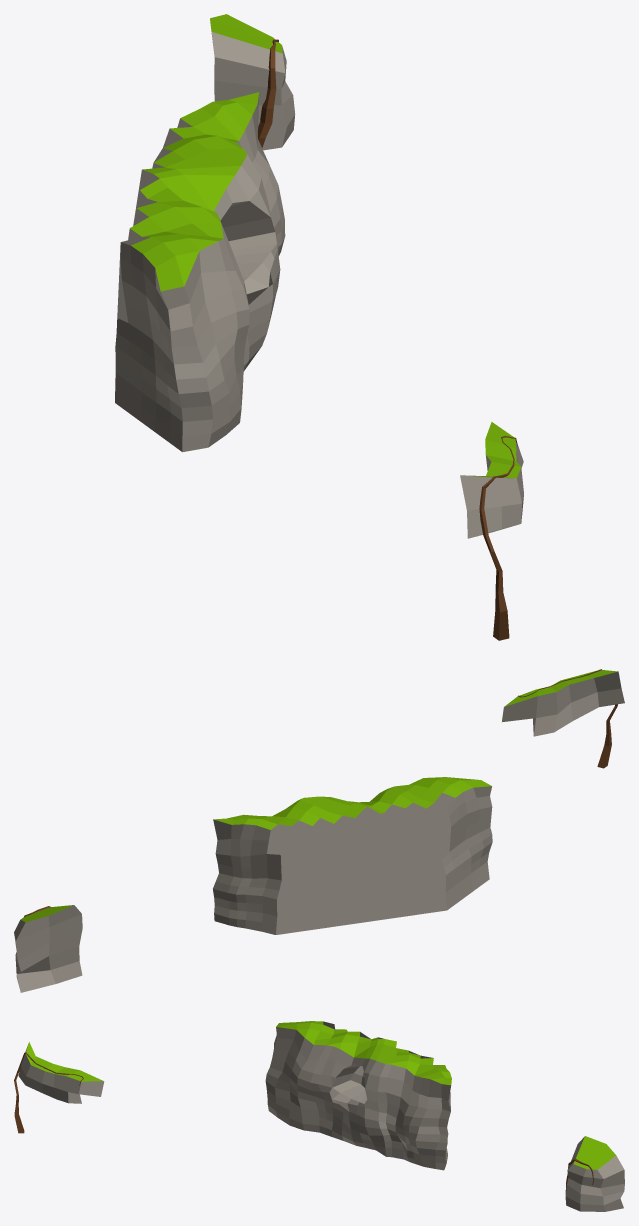
File: Cliff 008.fbx
3 views of the same model, one above another, from view 1: azimuth 30°, elevation 25°; view 2: azimuth 150°, elevation 25°; view 3: azimuth 270°, elevation 25° (orthographic). The views are drawn at different scales.
Visible parts, largest first — view 1: Cliff 008; view 2: Cliff 008; view 3: Cliff 008.
Boxes of the visible parts, x1=… form: Cliff 008: x1=115, y1=14, x2=523, y2=640; Cliff 008: x1=14, y1=669, x2=624, y2=992; Cliff 008: x1=14, y1=1021, x2=624, y2=1211.
Bounding box in the file's own units: 1321 × 564 × 3208.
